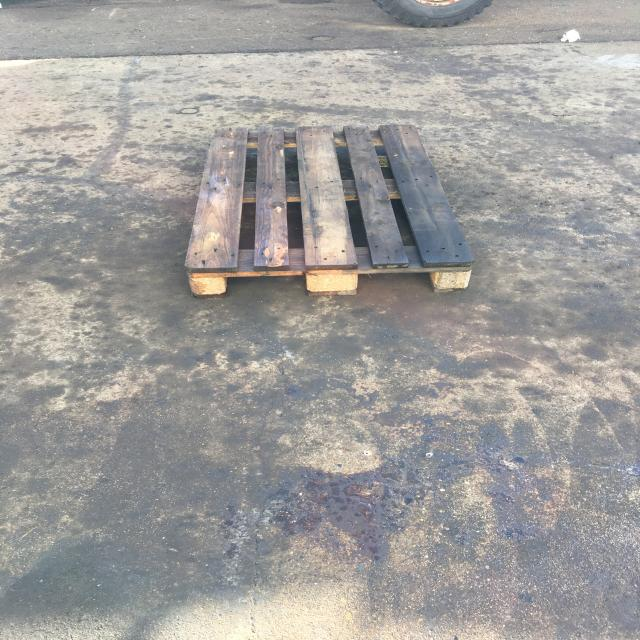block: (307, 271, 356, 296), (431, 268, 473, 292), (184, 274, 228, 296)
front: (184, 261, 475, 299)
